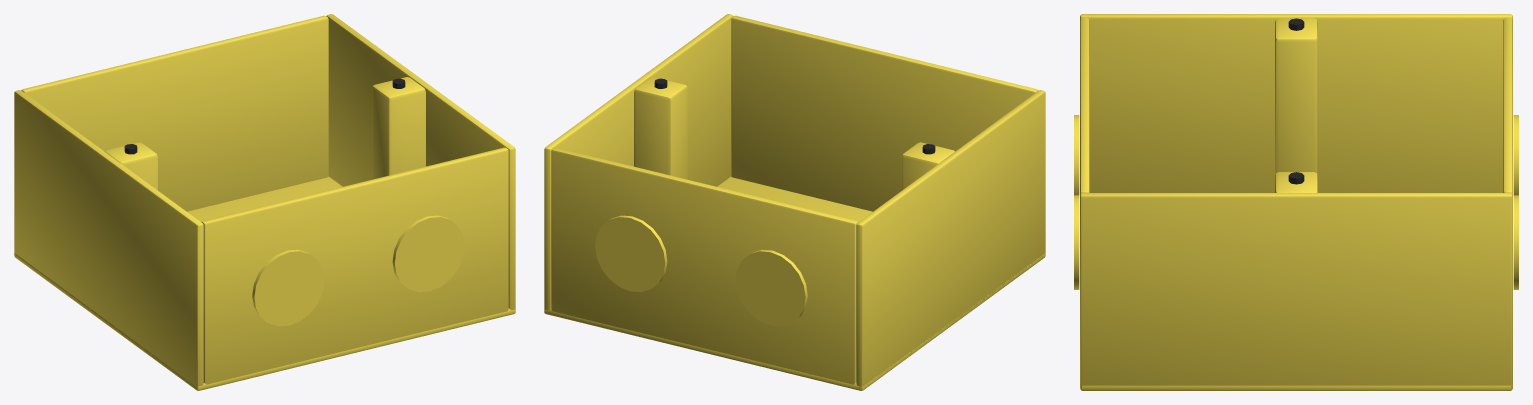
File: ELE-CXA-002.glb
The picture shows the model from 3 angles, left to right: view 1: azimuth 30°, elevation 25°; view 2: azimuth 150°, elevation 25°; view 3: azimuth 270°, elevation 25°; orthographic projection. The views are drawn at different scales.
Visible parts, largest first — view 1: ELE-CXA-002_ly-1, ELE-CXA-002_ly1, ELE-CXA-002_lx-1, ELE-CXA-002_lx1, ELE-CXA-002_orelha1, ELE-CXA-002_ko-11, ELE-CXA-002_ko-1-1, ELE-CXA-002_fundo, ELE-CXA-002_orelha-1; view 2: ELE-CXA-002_ly1, ELE-CXA-002_ly-1, ELE-CXA-002_lx-1, ELE-CXA-002_lx1, ELE-CXA-002_orelha1, ELE-CXA-002_ko11, ELE-CXA-002_ko1-1, ELE-CXA-002_fundo, ELE-CXA-002_orelha-1; view 3: ELE-CXA-002_lx1, ELE-CXA-002_lx-1, ELE-CXA-002_orelha-1, ELE-CXA-002_fundo, ELE-CXA-002_ly1, ELE-CXA-002_ly-1, ELE-CXA-002_orelha1, ELE-CXA-002_ko11, ELE-CXA-002_ko-11, ELE-CXA-002_ko1-1, ELE-CXA-002_ko-1-1.
Boxes of the visible parts, bbox=[...] form: ELE-CXA-002_ly-1: bbox=[201, 147, 508, 388]; ELE-CXA-002_ly1: bbox=[21, 15, 328, 211]; ELE-CXA-002_lx-1: bbox=[14, 90, 203, 390]; ELE-CXA-002_lx1: bbox=[326, 14, 515, 313]; ELE-CXA-002_orelha1: bbox=[372, 77, 425, 179]; ELE-CXA-002_ko-11: bbox=[392, 215, 464, 292]; ELE-CXA-002_ko-1-1: bbox=[252, 249, 324, 326]; ELE-CXA-002_fundo: bbox=[14, 177, 514, 390]; ELE-CXA-002_orelha-1: bbox=[105, 142, 157, 190]; ELE-CXA-002_ly1: bbox=[551, 147, 858, 388]; ELE-CXA-002_ly-1: bbox=[731, 15, 1038, 211]; ELE-CXA-002_lx-1: bbox=[856, 90, 1045, 390]; ELE-CXA-002_lx1: bbox=[544, 14, 733, 313]; ELE-CXA-002_orelha1: bbox=[634, 77, 687, 179]; ELE-CXA-002_ko11: bbox=[595, 215, 667, 292]; ELE-CXA-002_ko1-1: bbox=[735, 249, 807, 326]; ELE-CXA-002_fundo: bbox=[545, 177, 1045, 390]; ELE-CXA-002_orelha-1: bbox=[902, 142, 954, 190]; ELE-CXA-002_lx1: bbox=[1080, 193, 1512, 390]; ELE-CXA-002_lx-1: bbox=[1080, 14, 1512, 192]; ELE-CXA-002_orelha-1: bbox=[1275, 18, 1317, 174]; ELE-CXA-002_fundo: bbox=[1080, 385, 1512, 390]; ELE-CXA-002_ly1: bbox=[1503, 18, 1512, 194]; ELE-CXA-002_ly-1: bbox=[1080, 18, 1089, 194]; ELE-CXA-002_orelha1: bbox=[1275, 172, 1317, 192]; ELE-CXA-002_ko11: bbox=[1513, 195, 1518, 289]; ELE-CXA-002_ko-11: bbox=[1074, 195, 1079, 289]; ELE-CXA-002_ko1-1: bbox=[1513, 115, 1518, 195]; ELE-CXA-002_ko-1-1: bbox=[1074, 115, 1079, 195].
Bounding box in the file's own units: 0.1 × 0.0515 × 0.1028.
